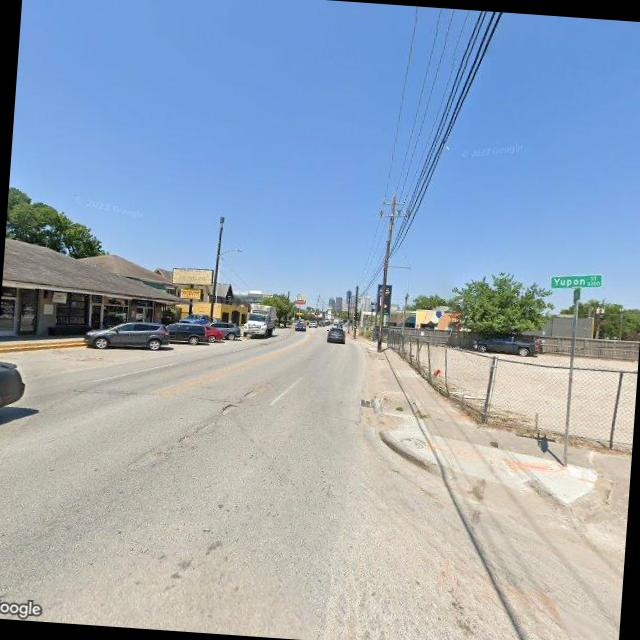pothole: (215, 399, 238, 416), (173, 430, 195, 446), (240, 384, 262, 400)
